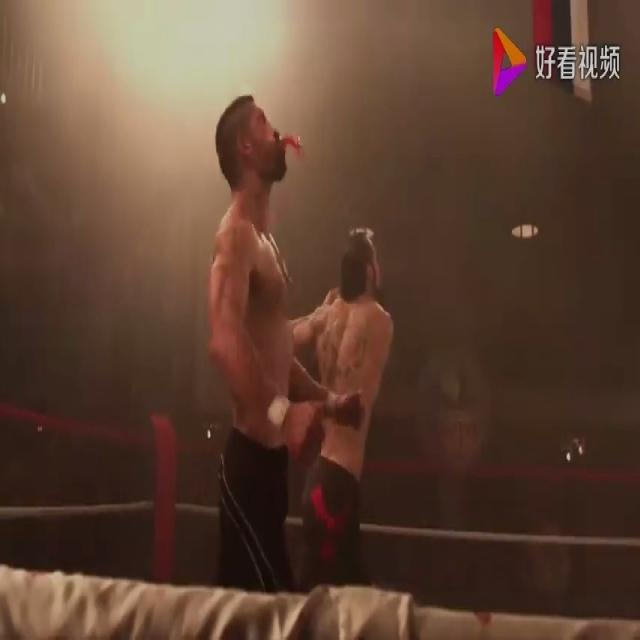fight: (187, 77, 406, 634)
